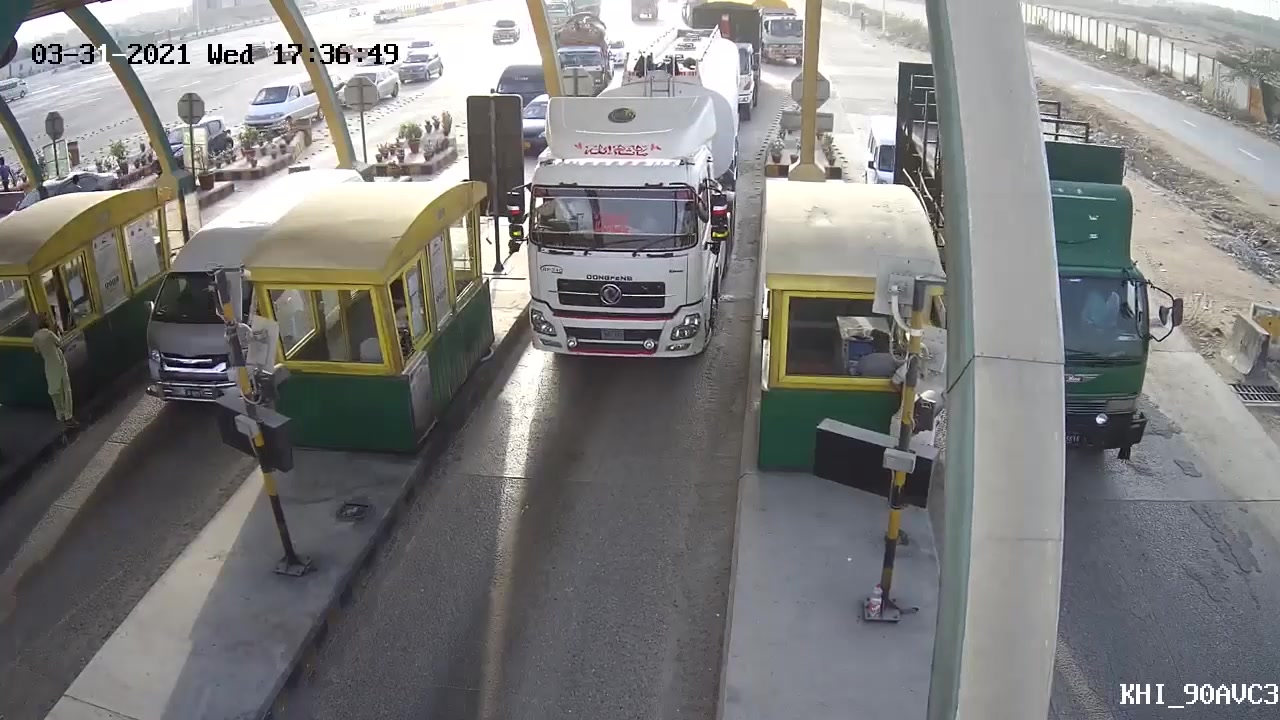F6: (509, 24, 757, 377)
